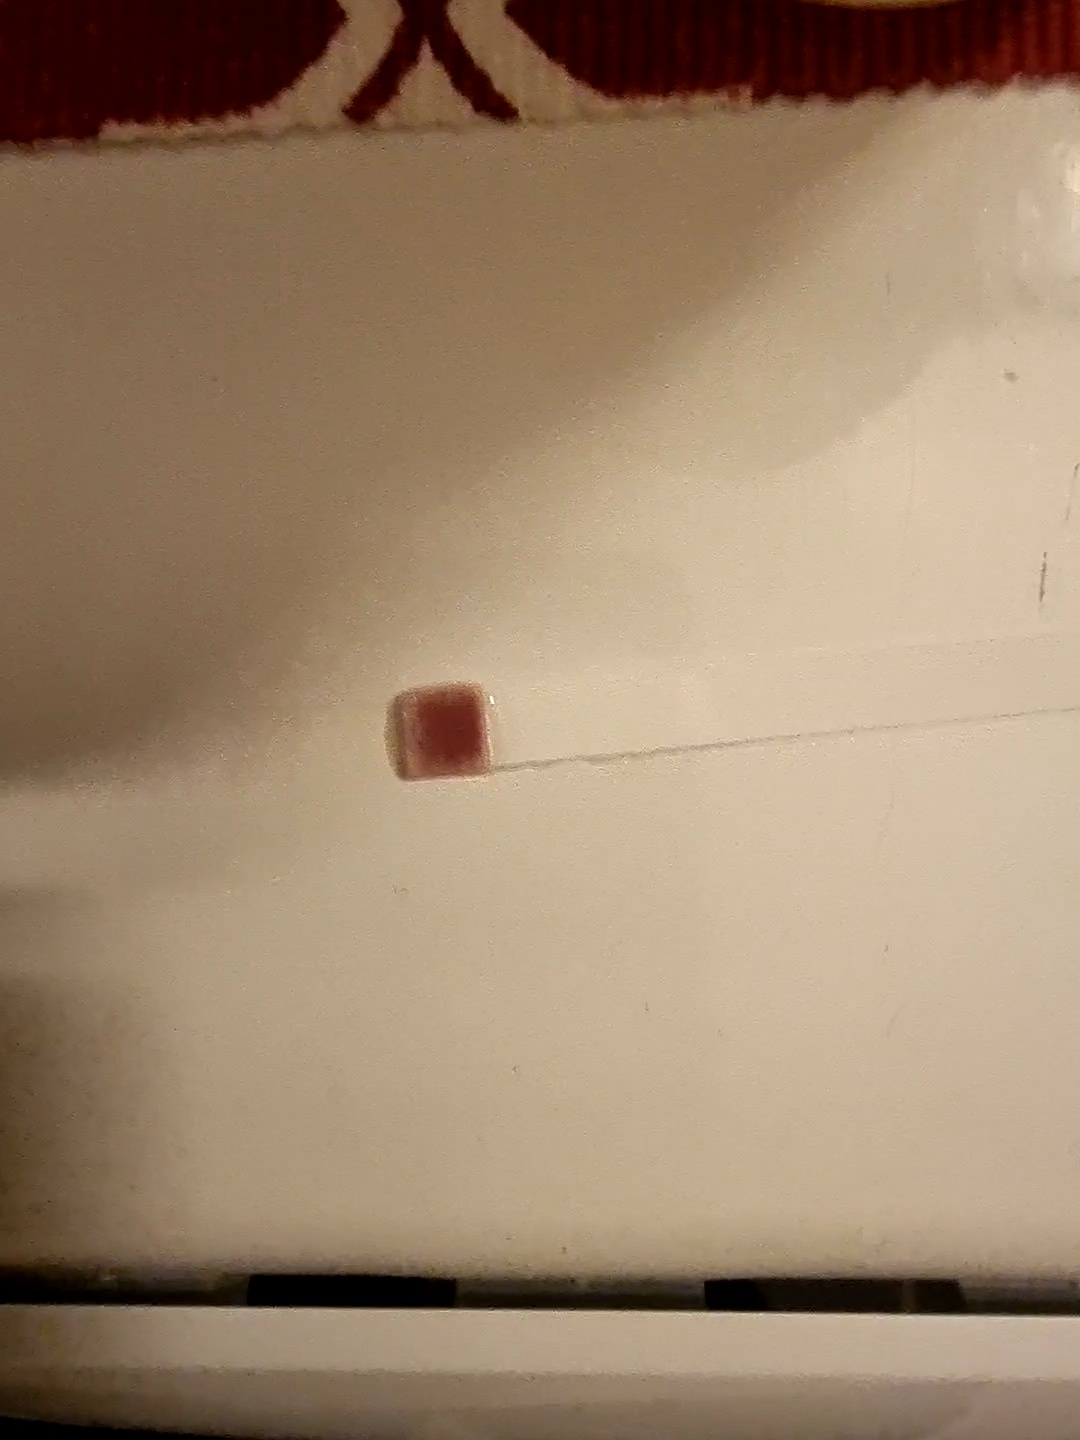keto-tip: (385, 678, 500, 786)
